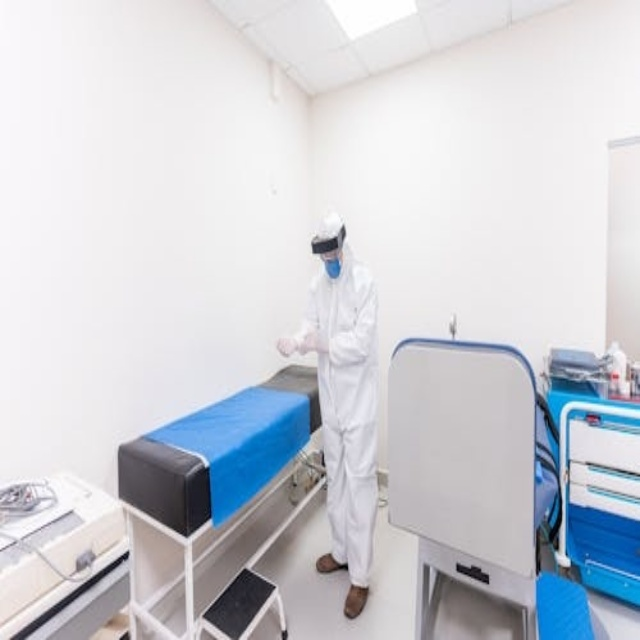Gafas: (320, 246, 341, 262)
Guantes: (299, 328, 324, 354), (276, 336, 300, 357)
Mascara: (324, 254, 342, 278)
